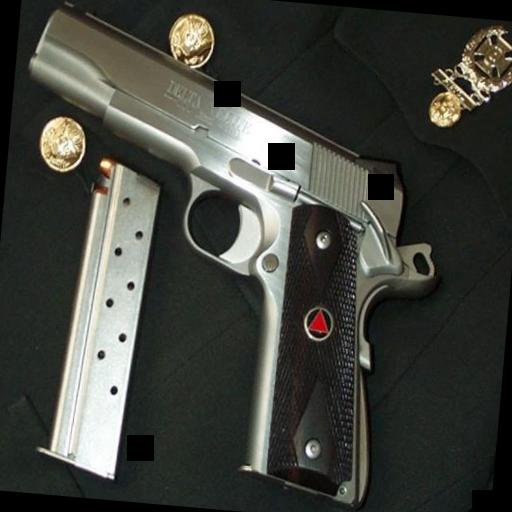Handgun: (0, 0, 459, 512)
